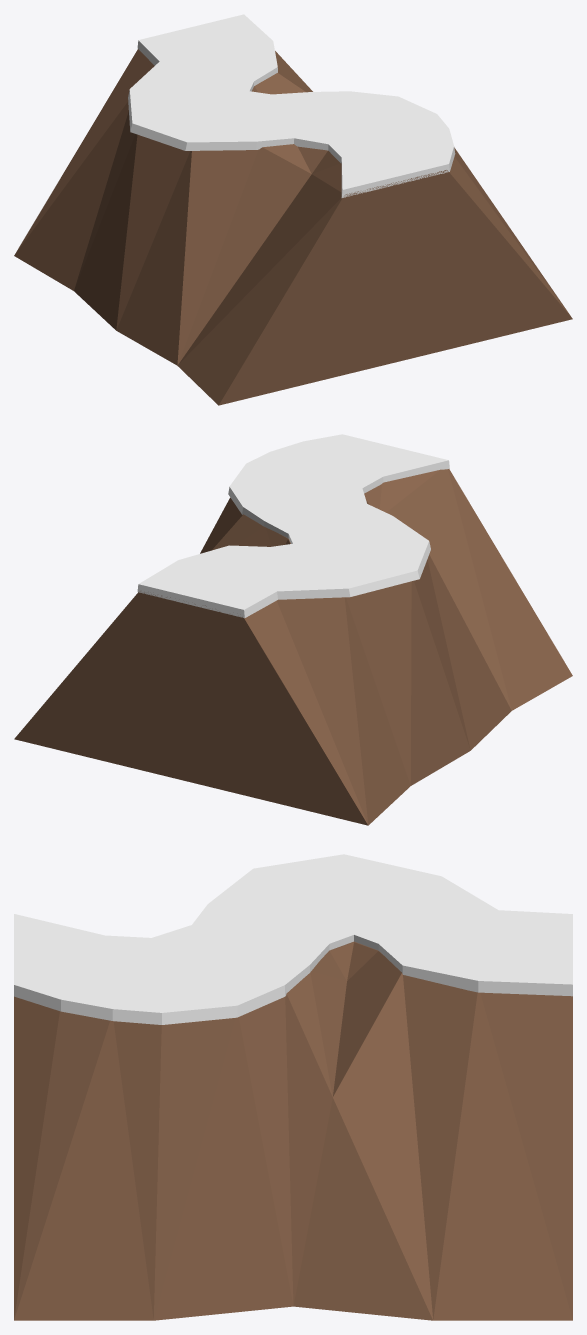
Rendered from Path_03.fbx.
3 views of the same model, one above another, from view 1: azimuth 30°, elevation 25°; view 2: azimuth 150°, elevation 25°; view 3: azimuth 270°, elevation 25° (orthographic). The views are drawn at different scales.
Visible parts, largest first — view 1: Path_03; view 2: Path_03; view 3: Path_03.
Boxes of the visible parts, x1=… form: Path_03: x1=14, y1=14, x2=572, y2=405; Path_03: x1=14, y1=434, x2=572, y2=825; Path_03: x1=14, y1=854, x2=572, y2=1320.
Bounding box in the file's own units: 200 × 100 × 200.
2 materials, 1 textured.
